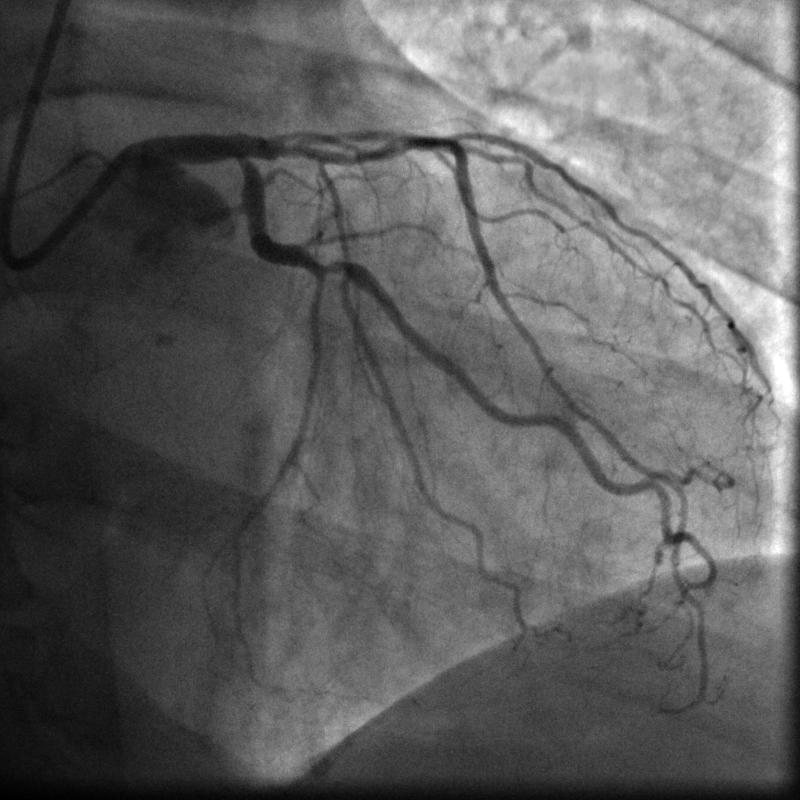Stenosis: (318, 259, 349, 278)
